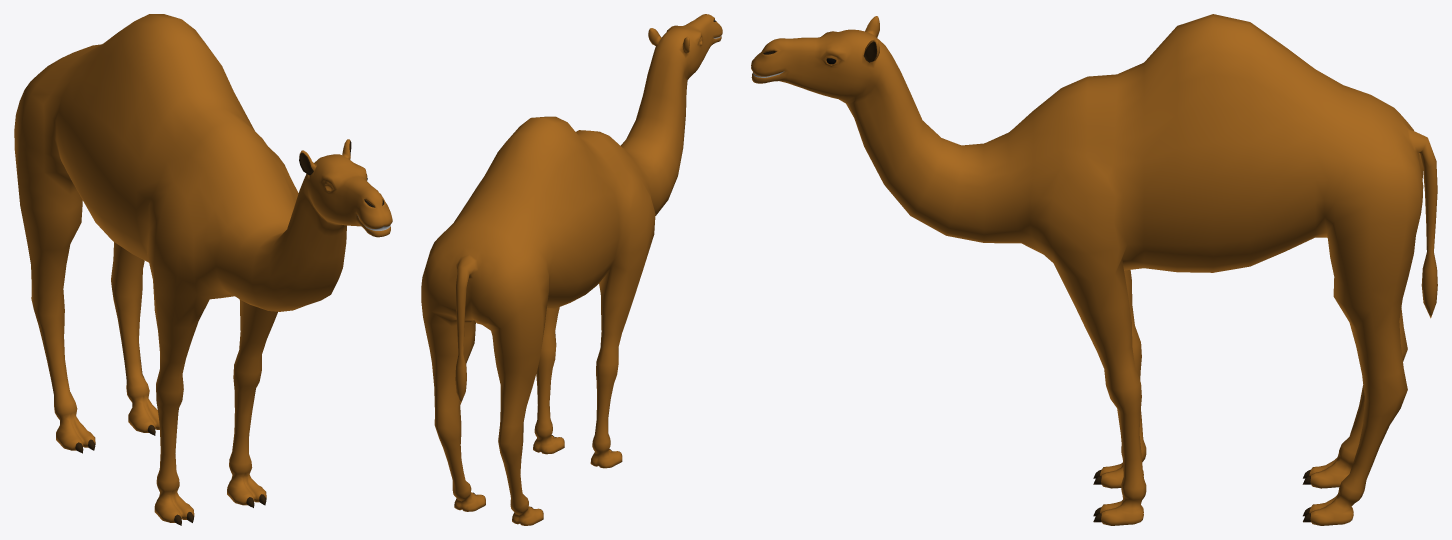
Rendered from camel.obj.
3 views of the same model, side by side, from view 1: azimuth 30°, elevation 25°; view 2: azimuth 150°, elevation 25°; view 3: azimuth 270°, elevation 25° (orthographic). The views are drawn at different scales.
Visible parts, largest first — view 1: camel; view 2: camel; view 3: camel.
Part boxes in pixels (x1,y1,x2,y2): camel: [14, 14, 392, 525]; camel: [421, 14, 722, 525]; camel: [751, 14, 1437, 525].
Size of the model in its own units: 0.6649 by 1.95 by 2.52.
